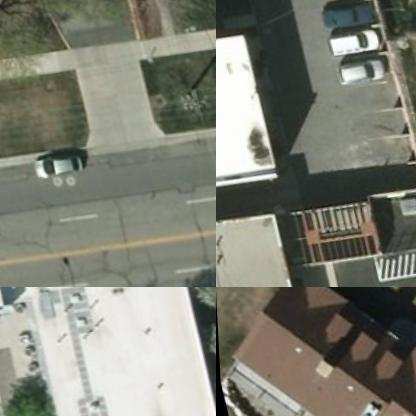car: (335, 49, 393, 88), (28, 140, 87, 175), (330, 20, 384, 54), (322, 0, 376, 29)
